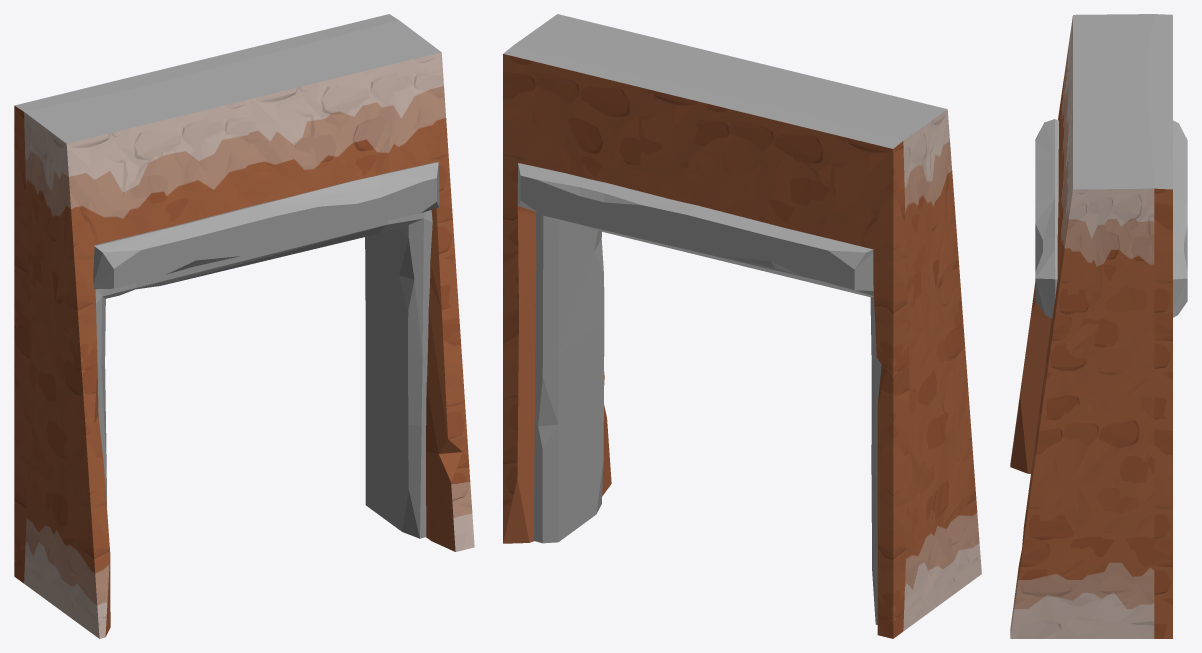
Rendered from SM_Bld_Wall_Ground_Door_Double_01.fbx.
The picture shows the model from 3 angles, left to right: view 1: azimuth 30°, elevation 25°; view 2: azimuth 150°, elevation 25°; view 3: azimuth 270°, elevation 25°; orthographic projection. The views are drawn at different scales.
Parts seen in each view (by area): view 1: SM_Bld_Wall_Ground_Door_Double_01; view 2: SM_Bld_Wall_Ground_Door_Double_01; view 3: SM_Bld_Wall_Ground_Door_Double_01.
Boxes of the visible parts, x1,y1,x2,y2 form: SM_Bld_Wall_Ground_Door_Double_01: [14, 14, 474, 638]; SM_Bld_Wall_Ground_Door_Double_01: [503, 14, 981, 638]; SM_Bld_Wall_Ground_Door_Double_01: [1010, 14, 1187, 638].
Size of the model in its own units: 250 by 301 by 107.
